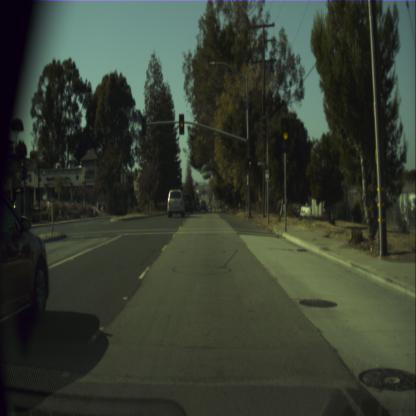RedLeft: (20, 159, 24, 178)
Yellow: (282, 117, 290, 151), (178, 114, 184, 134), (248, 154, 251, 169)
off: (141, 116, 146, 134)
